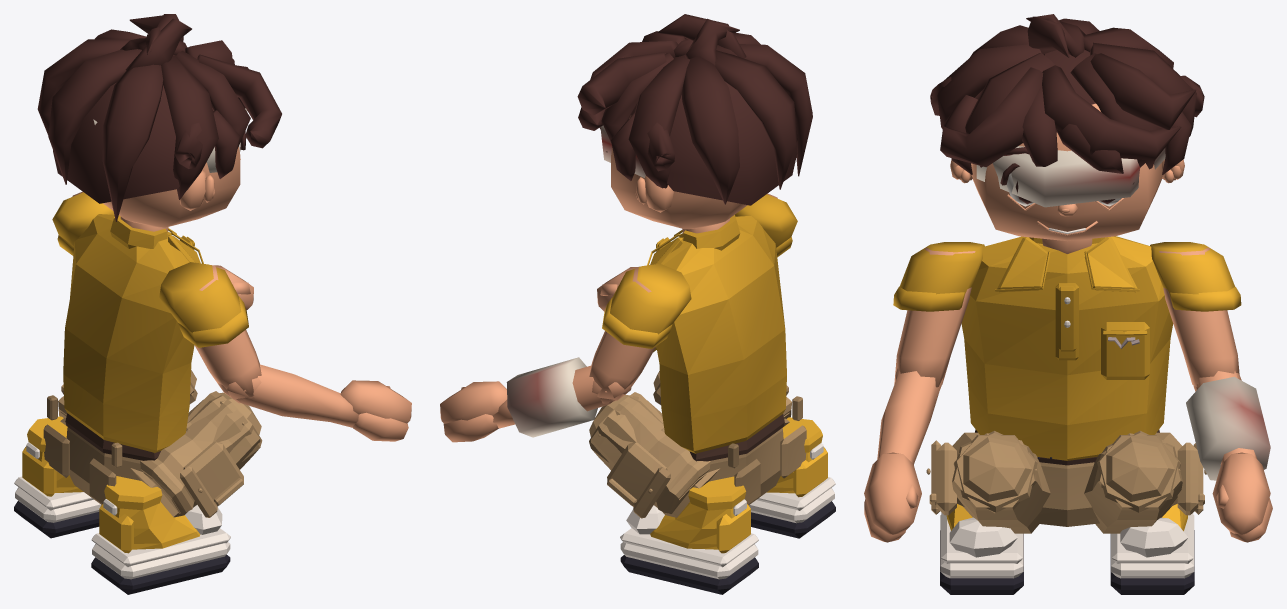
3 views of the same model, side by side, from view 1: azimuth 30°, elevation 25°; view 2: azimuth 150°, elevation 25°; view 3: azimuth 270°, elevation 25° (orthographic). The views are drawn at different scales.
Parts seen in each view (by area): view 1: head_pal_hairChestnut, torso_pal_schoolBusYellow, armR_pal_schoolBusYellow, legR_pal_khaki, footR_pal_schoolBusYellow, shinR_pal_khaki, footR_pal_picketWhite, head_pal_skinWarm, foreArmR_pal_skinWarm, hip_pal_khaki, handR_pal_skinWarm, armR_pal_skinWarm (+7 smaller); view 2: head_pal_hairChestnut, torso_pal_schoolBusYellow, armL_pal_schoolBusYellow, legL_pal_khaki, footL_pal_schoolBusYellow, foreArmL_pal_picketWhite, shinL_pal_khaki, head_pal_skinWarm, footL_pal_picketWhite, hip_pal_khaki, handL_pal_skinWarm, armL_pal_skinWarm (+8 smaller); view 3: torso_pal_schoolBusYellow, head_pal_hairChestnut, head_pal_skinWarm, head_pal_picketWhite, foreArmL_pal_picketWhite, shinL_pal_khaki, shinR_pal_khaki, armL_pal_schoolBusYellow, armR_pal_schoolBusYellow, legR_pal_khaki, footR_pal_picketWhite, footL_pal_picketWhite (+9 smaller).
Part boxes in pixels (box(x1,y1,x2,y2)): head_pal_hairChestnut: box(37, 14, 281, 221); torso_pal_schoolBusYellow: box(63, 214, 203, 453); armR_pal_schoolBusYellow: box(159, 262, 248, 347); legR_pal_khaki: box(130, 395, 260, 517); footR_pal_schoolBusYellow: box(99, 476, 200, 553); shinR_pal_khaki: box(140, 391, 262, 513); footR_pal_picketWhite: box(91, 499, 230, 579); head_pal_skinWarm: box(103, 146, 240, 232); foreArmR_pal_skinWarm: box(218, 364, 358, 427); hip_pal_khaki: box(43, 395, 189, 504); handR_pal_skinWarm: box(340, 380, 411, 441); armR_pal_skinWarm: box(194, 265, 261, 399); head_pal_hairChestnut: box(577, 14, 812, 205); torso_pal_schoolBusYellow: box(647, 215, 786, 453); armL_pal_schoolBusYellow: box(602, 263, 691, 348); legL_pal_khaki: box(591, 396, 719, 518); footL_pal_schoolBusYellow: box(650, 476, 750, 553); foreArmL_pal_picketWhite: box(506, 357, 597, 437); shinL_pal_khaki: box(589, 392, 710, 513); head_pal_skinWarm: box(611, 116, 747, 233); footL_pal_picketWhite: box(620, 499, 758, 579); hip_pal_khaki: box(661, 396, 806, 504); handL_pal_skinWarm: box(440, 381, 507, 442); armL_pal_skinWarm: box(589, 266, 656, 400); torso_pal_schoolBusYellow: box(961, 236, 1173, 460); head_pal_hairChestnut: box(930, 14, 1204, 204); head_pal_skinWarm: box(950, 103, 1184, 253); head_pal_picketWhite: box(976, 146, 1165, 234); foreArmL_pal_picketWhite: box(1186, 376, 1270, 480); shinL_pal_khaki: box(1097, 432, 1182, 512); shinR_pal_khaki: box(952, 432, 1037, 513); armL_pal_schoolBusYellow: box(1150, 242, 1241, 311); armR_pal_schoolBusYellow: box(893, 242, 984, 311); legR_pal_khaki: box(926, 431, 1050, 533); footR_pal_picketWhite: box(940, 512, 1023, 578); footL_pal_picketWhite: box(1111, 513, 1194, 578).
Size of the model in its own units: 0.7229 by 1.28 by 0.8318.
